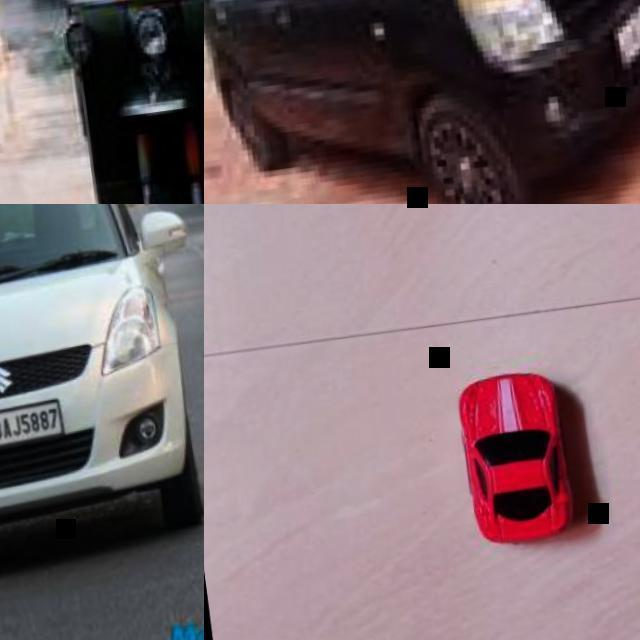car: (210, 6, 640, 192), (0, 206, 197, 562), (457, 360, 585, 552)
